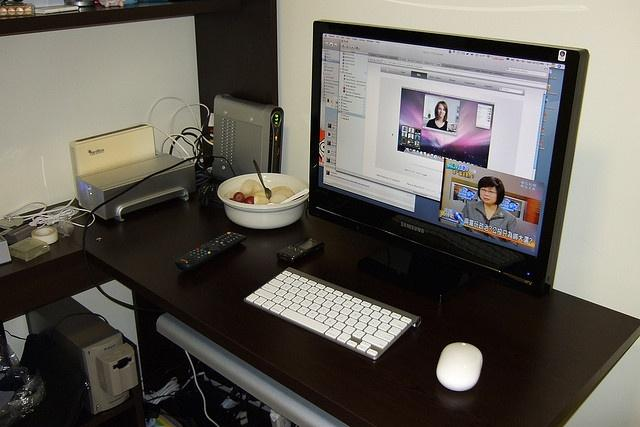AIO PC-Monitor-TV: (307, 18, 590, 303)
